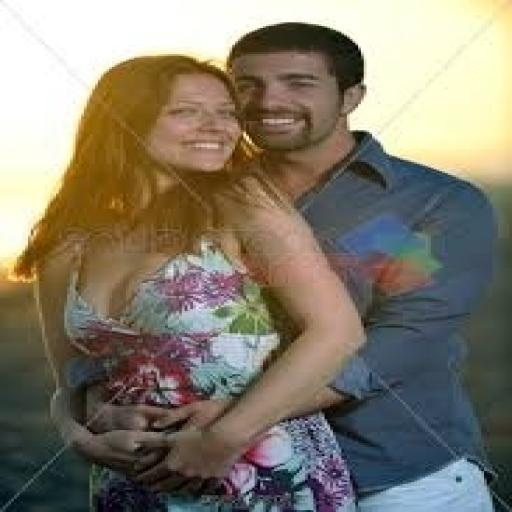hugging: (14, 19, 504, 510)
